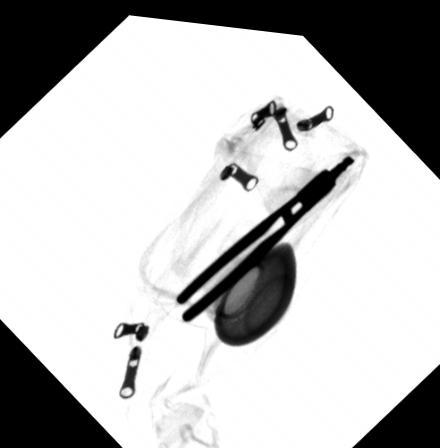Pliers: (172, 144, 356, 318)
